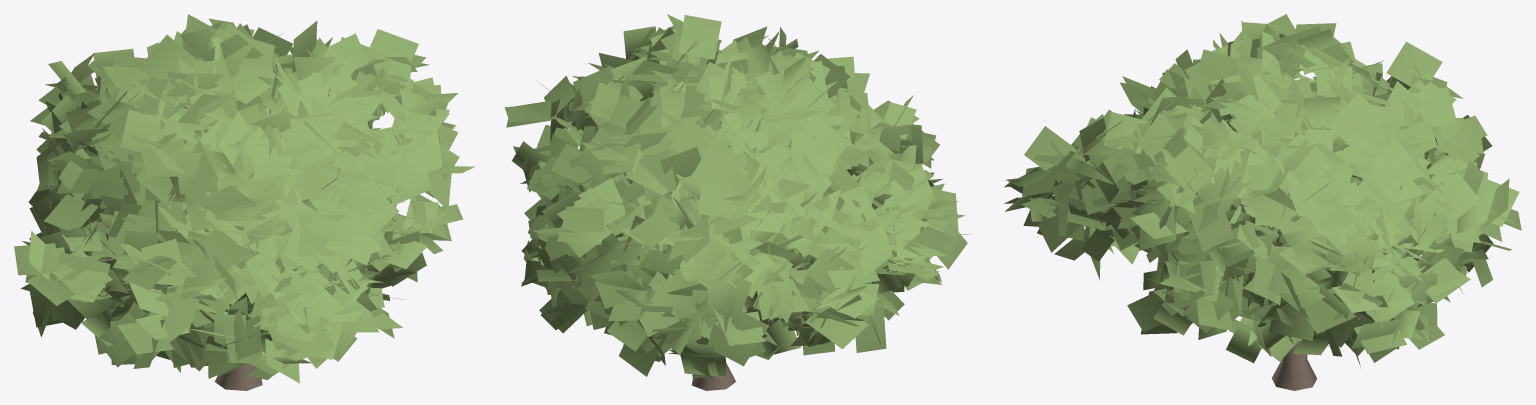
Rendered from Oak_2_lod1.glb.
The picture shows the model from 3 angles, left to right: view 1: azimuth 30°, elevation 25°; view 2: azimuth 150°, elevation 25°; view 3: azimuth 270°, elevation 25°; orthographic projection. The views are drawn at different scales.
Parts seen in each view (by area): view 1: Oak_2_lod1; view 2: Oak_2_lod1; view 3: Oak_2_lod1.
Part boxes in pixels (x1,y1,x2,y2): Oak_2_lod1: [14, 14, 474, 390]; Oak_2_lod1: [504, 14, 971, 390]; Oak_2_lod1: [1004, 14, 1521, 390].
Bounding box in the file's own units: 20.4 × 15.97 × 21.99.
